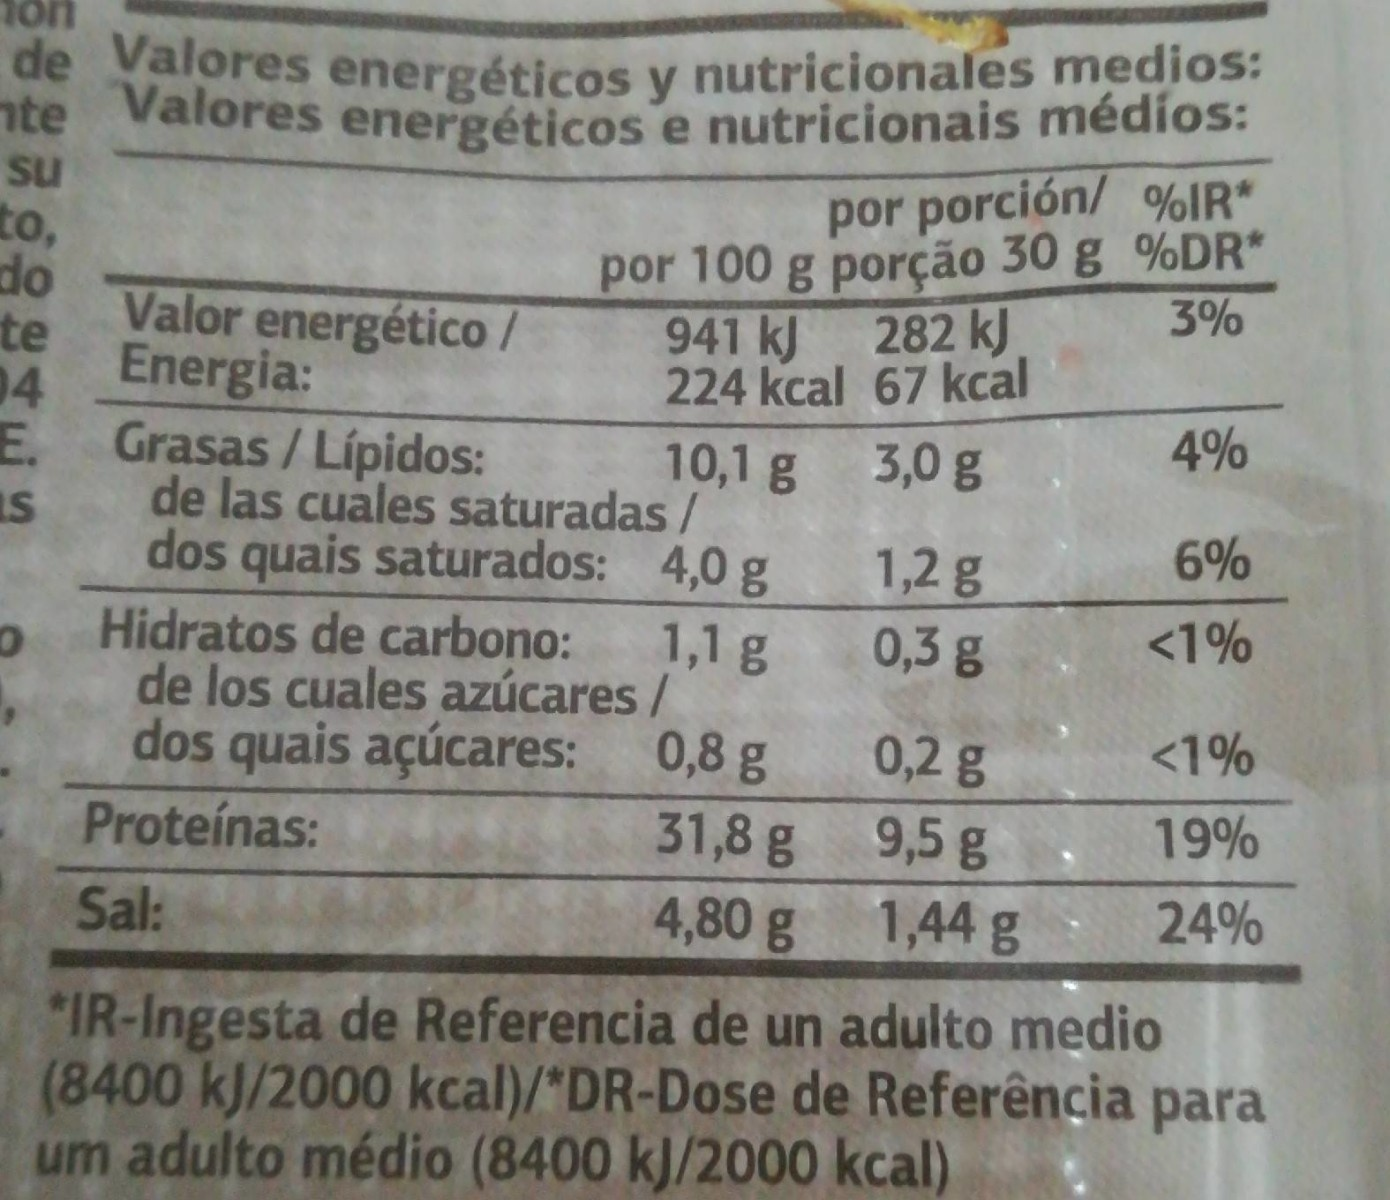column: (76, 292, 843, 956), (873, 309, 1029, 955), (1148, 296, 1264, 951)
table: (74, 2, 1298, 991)
